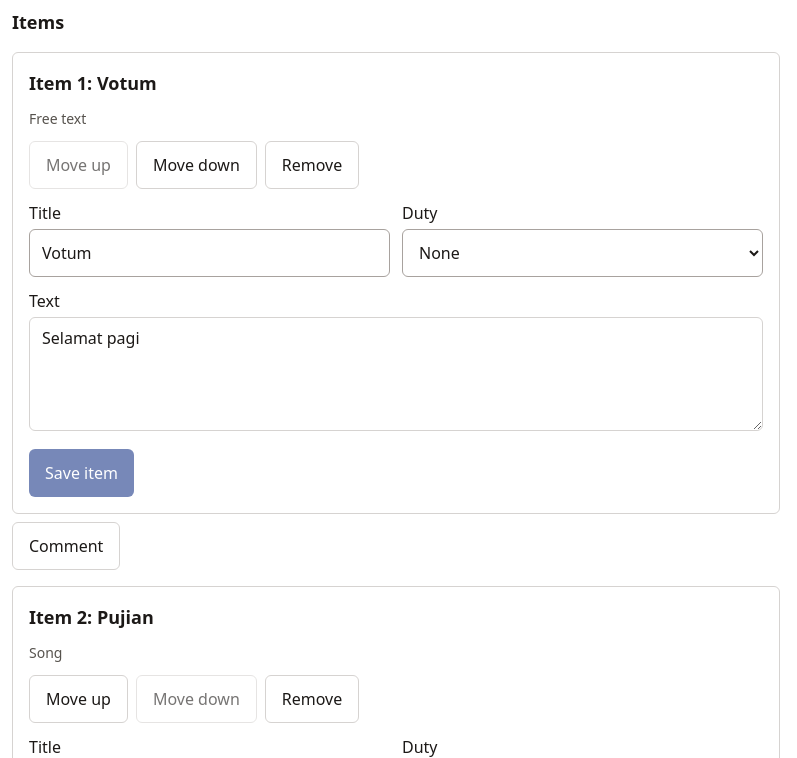
TC-E-002 item form state › does not replace unsaved input when the liturgy is reloaded
(page scrolled)
Type "!" into the text box labelled "Text" at (396, 374), box [29,317,763,431]
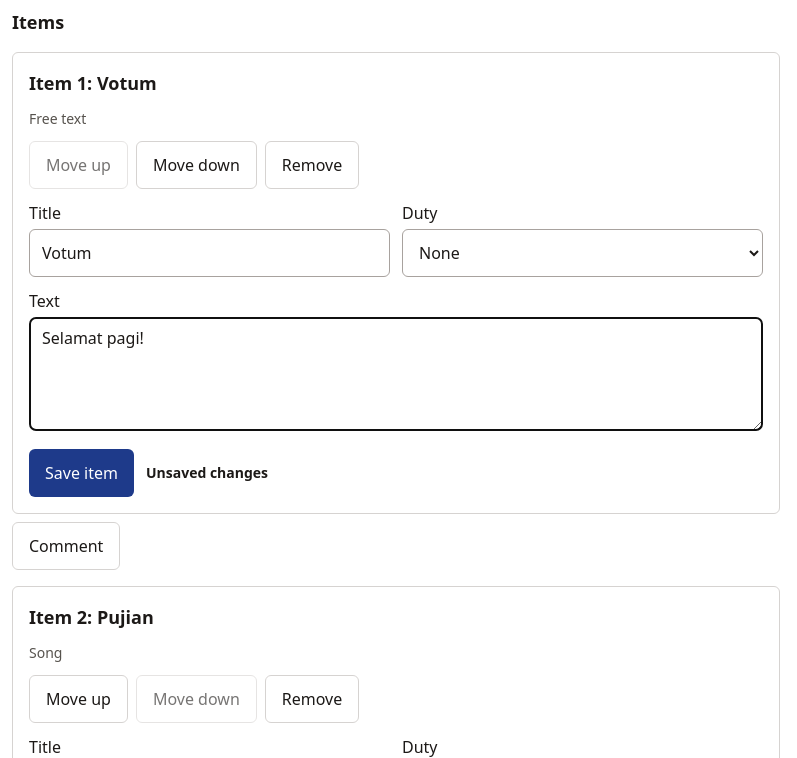
Expected: the text box labelled "Text" holds "Selamat pagi!", [29,317,763,431]
